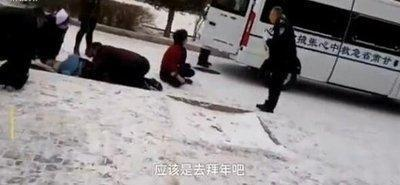Fall-Detected: (30, 49, 102, 79)
